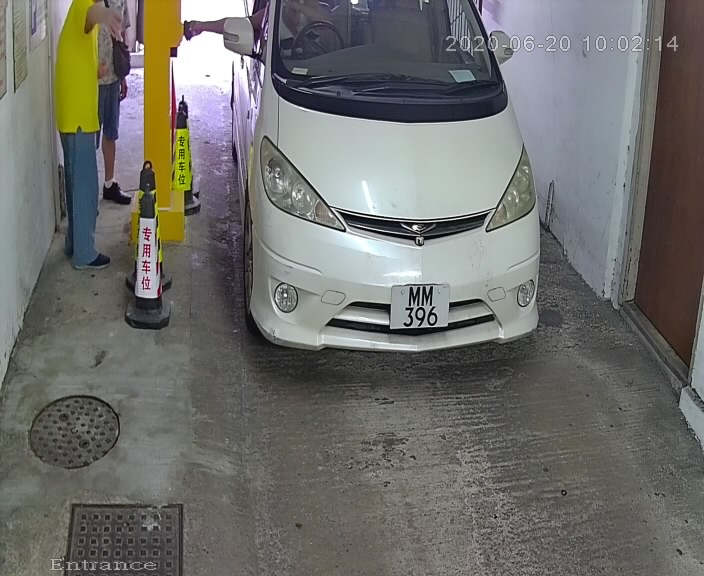privatecar: (174, 3, 558, 370)
